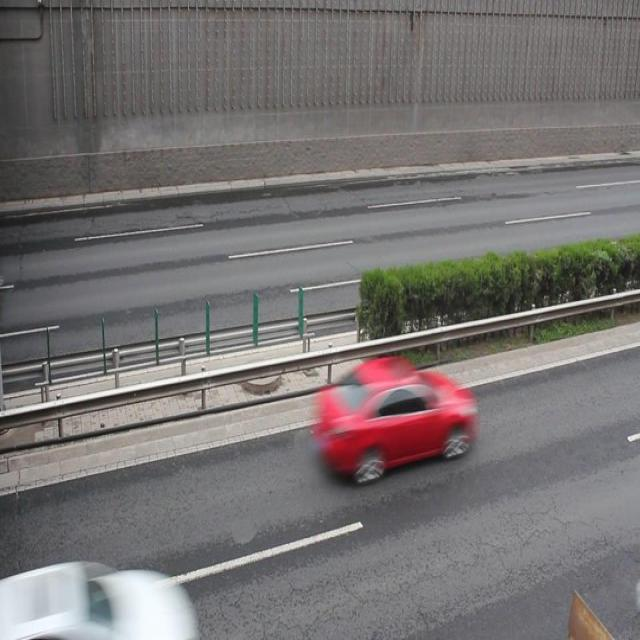car: (318, 352, 475, 480), (0, 558, 198, 640)
